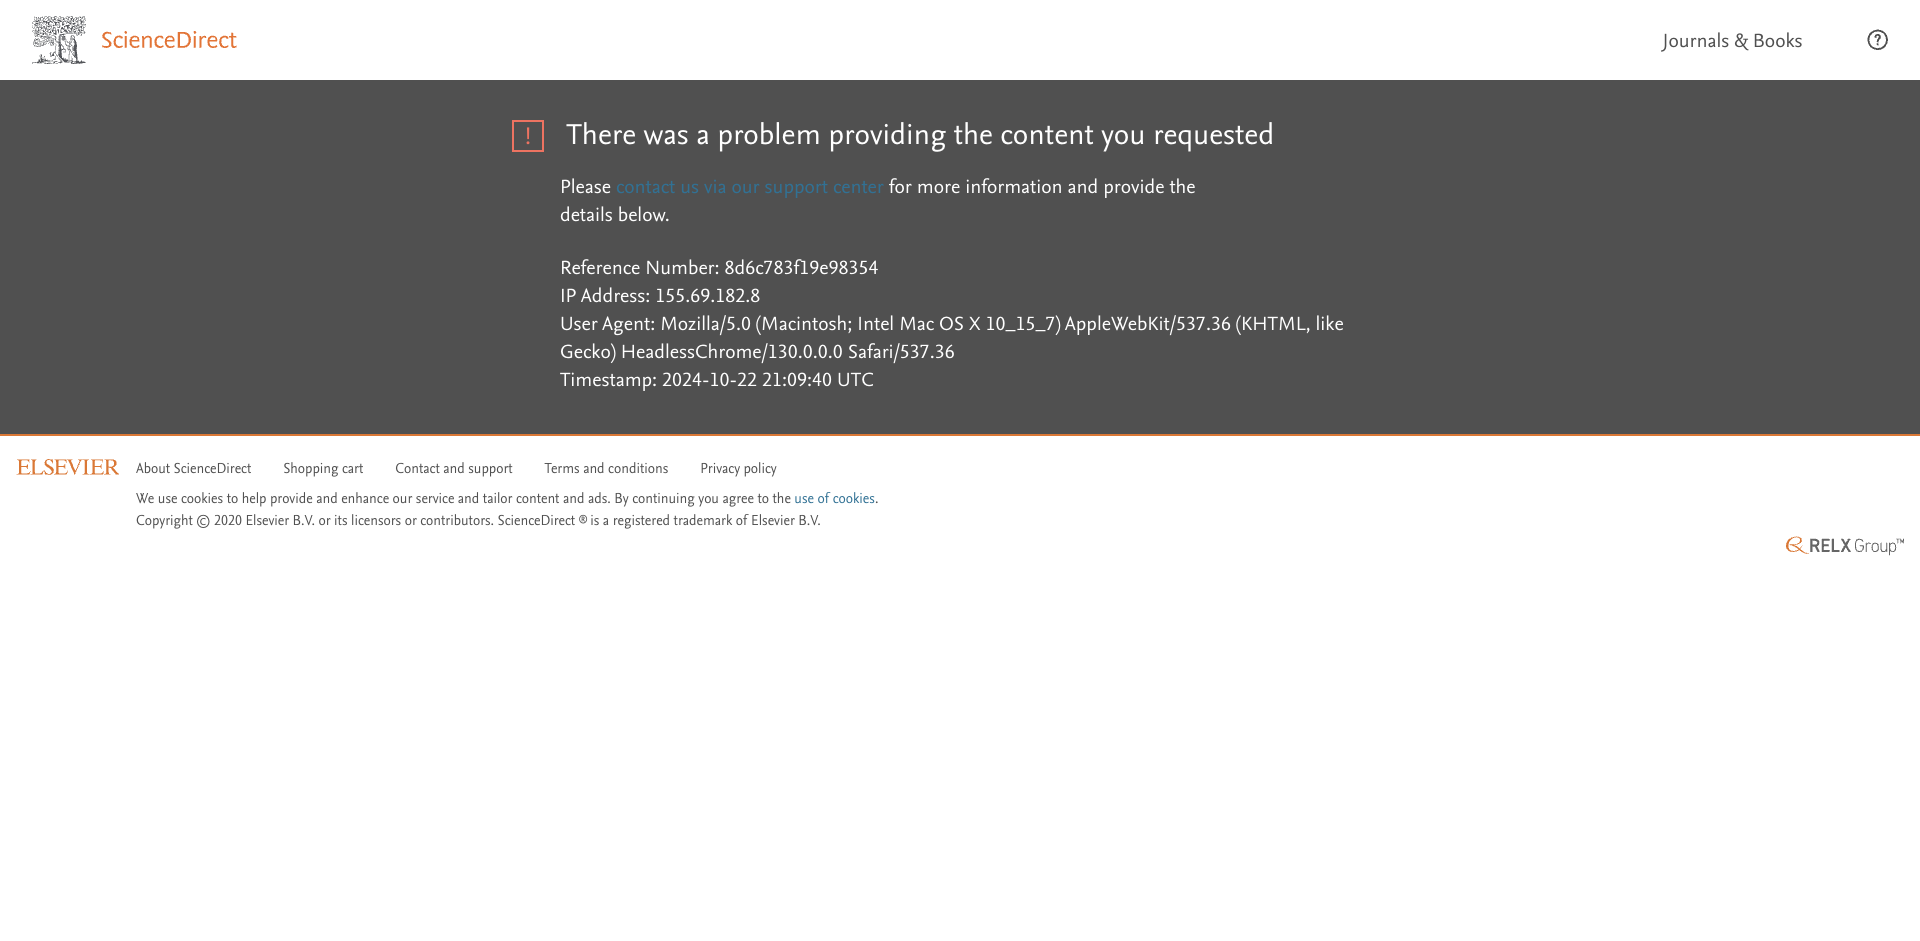button: (1663, 32, 1802, 51), (1866, 29, 1888, 50)
link: (32, 16, 240, 64), (616, 178, 884, 200), (16, 452, 120, 491), (1787, 545, 1904, 567), (545, 463, 669, 477), (396, 463, 513, 477), (136, 463, 251, 477), (795, 493, 874, 508), (283, 463, 364, 477), (700, 463, 776, 477)
